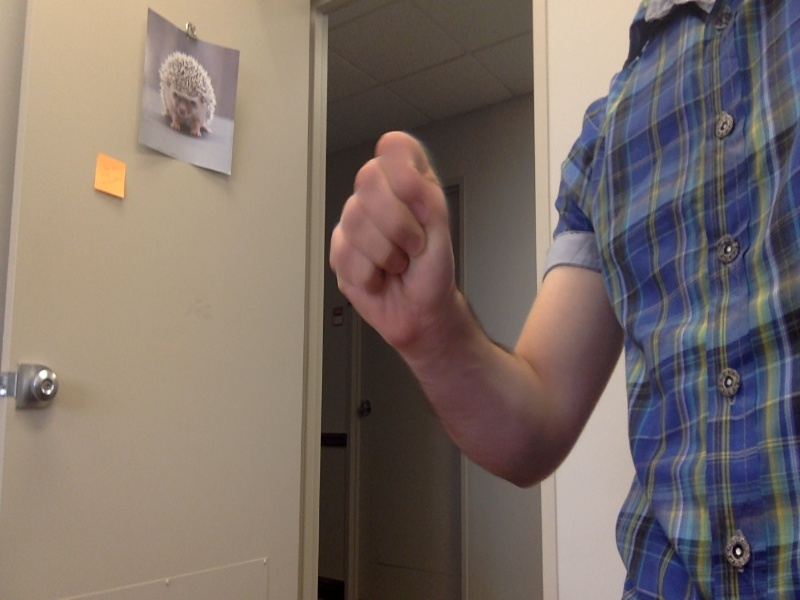0-hand: (326, 128, 456, 352)
